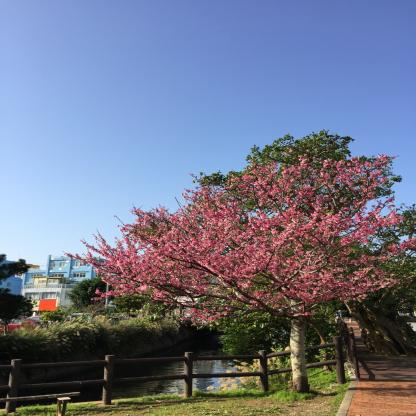KanhiSakura: (60, 147, 416, 340)
